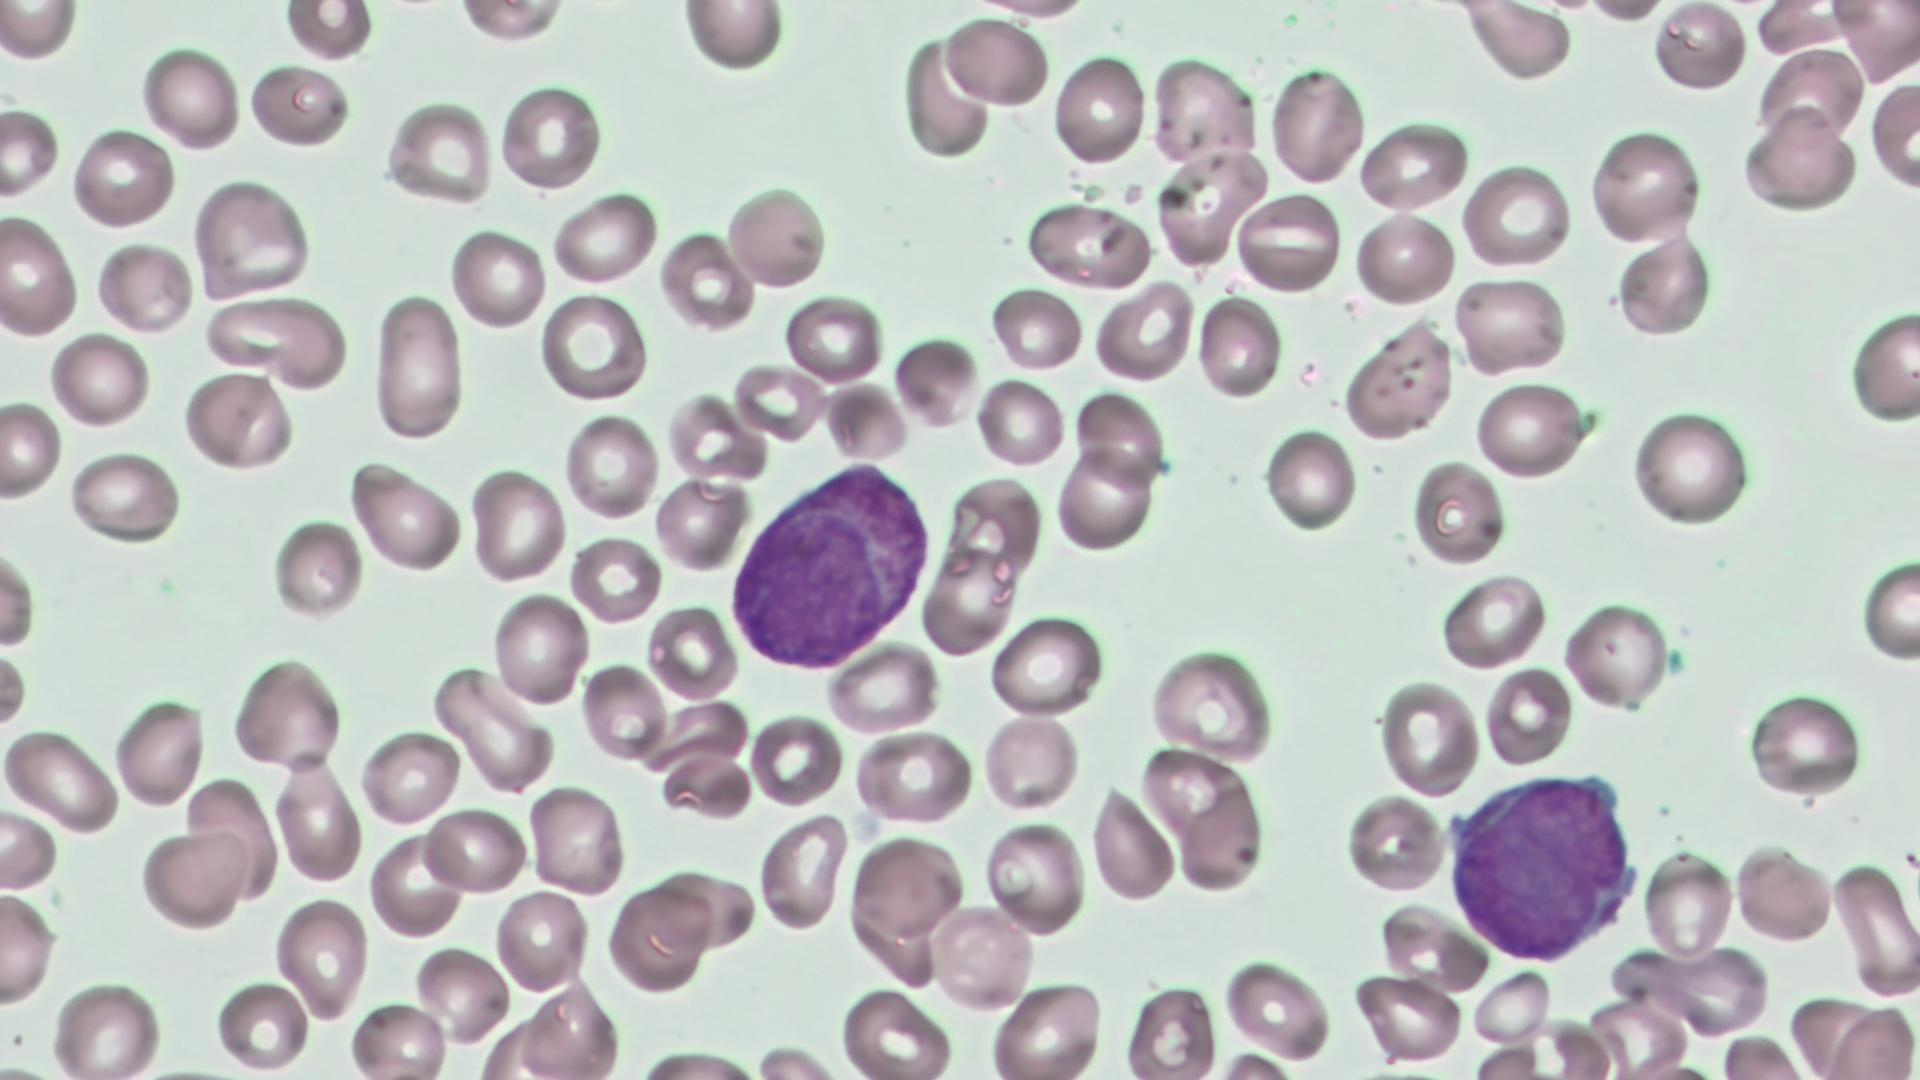RBC: (431, 657, 558, 798), (1630, 406, 1754, 529), (1342, 311, 1455, 446), (371, 291, 467, 443), (1586, 123, 1704, 247), (1149, 644, 1273, 760), (199, 294, 348, 390), (193, 177, 313, 295), (1153, 146, 1267, 270), (231, 651, 345, 771), (347, 456, 463, 574), (1149, 51, 1258, 174), (1615, 945, 1768, 1033), (185, 771, 284, 906), (1830, 855, 1920, 1001), (272, 891, 371, 1022), (382, 96, 496, 210), (1460, 160, 1575, 272), (3, 724, 119, 835), (1378, 675, 1482, 798), (982, 816, 1085, 940), (1745, 690, 1862, 798), (851, 832, 964, 943), (986, 612, 1104, 719), (179, 368, 298, 473), (851, 727, 976, 825), (897, 32, 990, 164), (491, 588, 592, 709), (604, 880, 712, 993), (469, 462, 568, 585), (1051, 47, 1150, 171), (1563, 597, 1669, 712), (497, 79, 603, 195), (1451, 274, 1568, 378), (47, 975, 166, 1077), (1232, 189, 1345, 295), (724, 178, 829, 293), (1269, 65, 1366, 189), (1222, 953, 1332, 1063), (539, 291, 647, 402), (138, 41, 243, 156), (1472, 378, 1586, 483), (526, 779, 626, 898), (823, 640, 943, 737), (70, 123, 175, 232), (1054, 442, 1156, 554), (446, 222, 549, 334), (1088, 778, 1179, 905), (140, 825, 248, 931), (942, 11, 1051, 115), (1437, 568, 1548, 671), (562, 407, 659, 524), (1026, 199, 1149, 291), (1755, 45, 1866, 146), (1738, 116, 1858, 210), (1408, 454, 1509, 566), (756, 812, 848, 934), (111, 694, 206, 811), (1342, 790, 1447, 897), (47, 327, 154, 431), (1731, 839, 1834, 947), (272, 764, 361, 886), (1092, 278, 1196, 384), (365, 832, 465, 942), (492, 885, 591, 996), (1358, 117, 1472, 214), (69, 448, 182, 545), (920, 541, 1015, 655), (986, 982, 1102, 1076), (932, 905, 1033, 1013), (1262, 425, 1360, 535), (837, 984, 952, 1077), (0, 211, 83, 340), (1352, 208, 1458, 309), (655, 225, 754, 334), (549, 189, 657, 287), (1640, 848, 1738, 957), (1352, 971, 1465, 1064), (359, 725, 459, 829), (1139, 742, 1250, 836), (421, 802, 529, 897), (1455, 0, 1576, 84), (411, 944, 512, 1046), (1069, 389, 1171, 489), (1611, 236, 1712, 338), (269, 514, 363, 622), (1196, 291, 1284, 404), (646, 599, 738, 704), (651, 473, 749, 572), (981, 713, 1077, 814), (92, 239, 194, 334), (1124, 981, 1220, 1080), (782, 293, 884, 386), (1845, 303, 1920, 429), (245, 63, 353, 150), (1750, 88, 1858, 174), (748, 711, 841, 810), (1178, 789, 1267, 891), (214, 978, 309, 1073), (570, 531, 665, 626), (1485, 665, 1572, 767), (582, 661, 669, 764), (890, 331, 980, 430), (1654, 1, 1749, 94), (975, 375, 1065, 469), (988, 285, 1083, 375), (732, 360, 829, 444), (678, 3, 789, 76), (1826, 0, 1920, 87), (345, 998, 447, 1077), (1857, 549, 1920, 667), (1824, 1001, 1917, 1079), (0, 394, 65, 506), (0, 887, 59, 1009), (825, 380, 909, 465), (1468, 967, 1552, 1047), (659, 753, 754, 822), (280, 0, 377, 65), (0, 104, 61, 200), (1869, 79, 1917, 195), (451, 0, 571, 44), (0, 3, 82, 65), (0, 804, 58, 890), (1468, 1040, 1545, 1077)
WBC: (727, 460, 940, 673), (1444, 766, 1646, 965)
